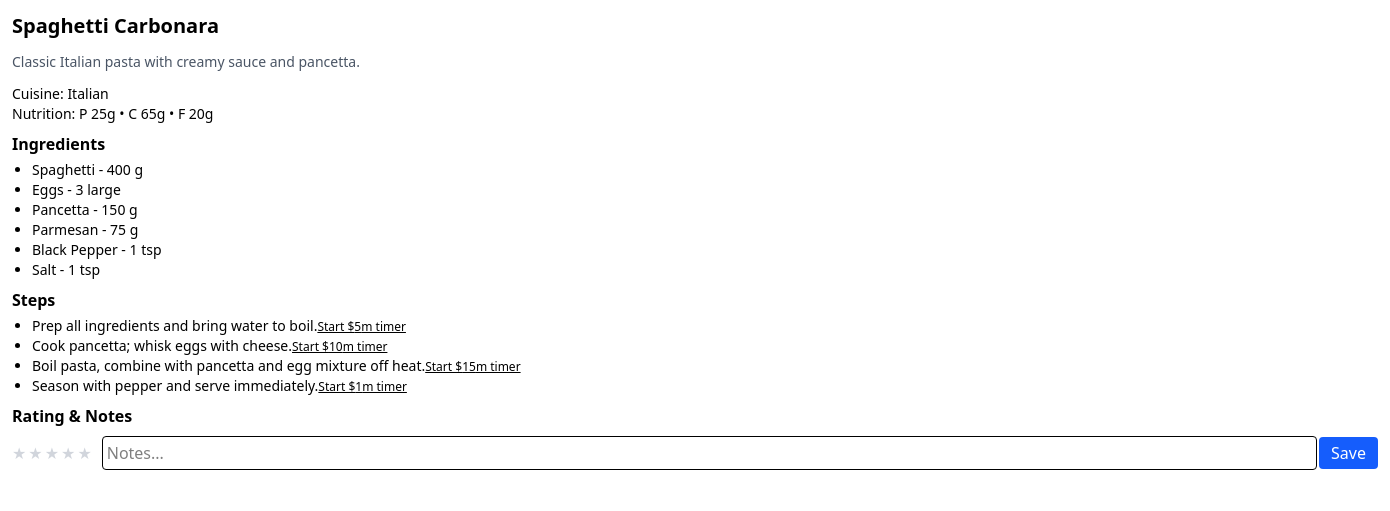
Detail › renders ingredients and steps, allows saving rating and note
expect the heading "Spaghetti Carbonara" is shown: met, box [12,12,219,39]
expect the list item "Eggs - 3 large" is shown: met, box [32,180,121,199]
Click the 5th text "★". click: (85, 453)
box: [77,441,92,465]
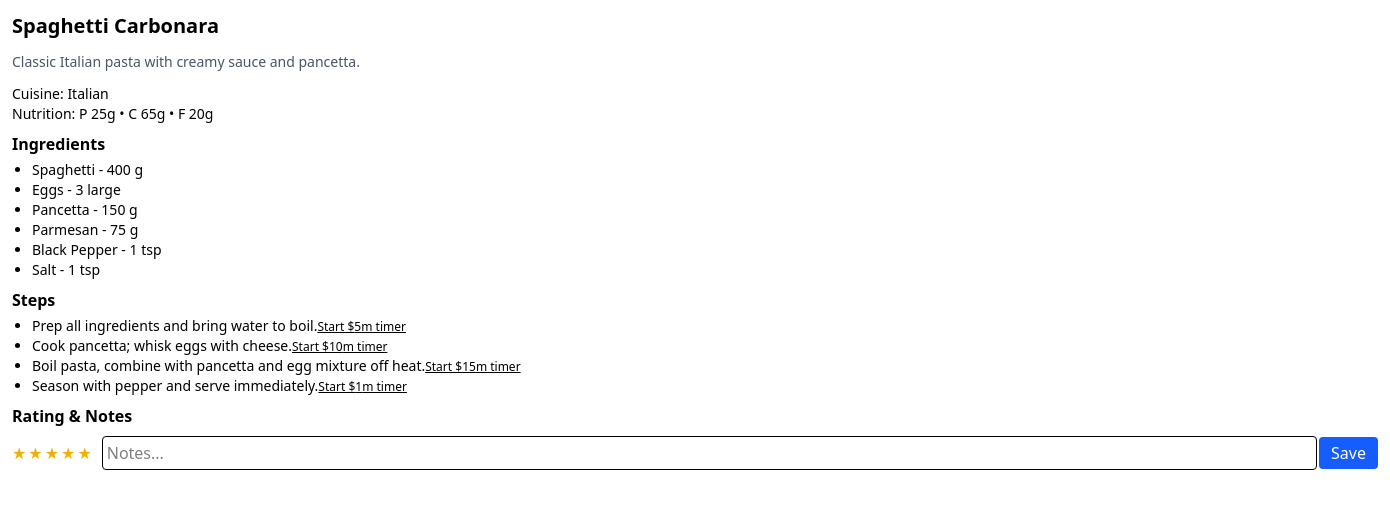
Type "Tasty!" into the field with placeholder "Notes...". click: (709, 453)
box: [102,436,1317,470]
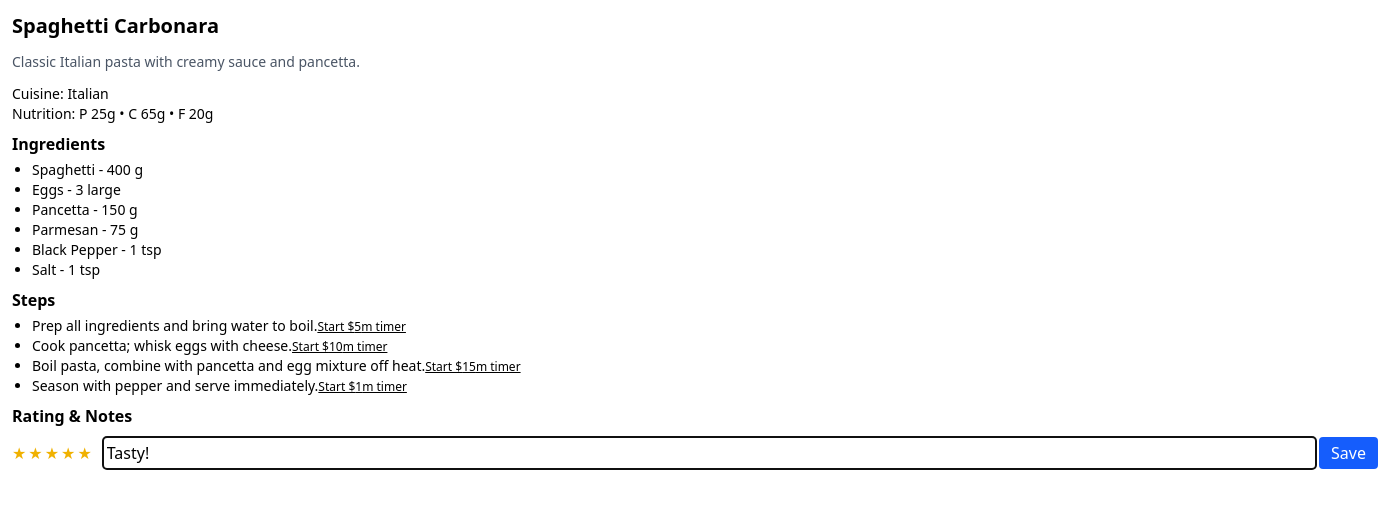
Click the button "Save". click: (1349, 453)
box: [1319,437,1378,469]
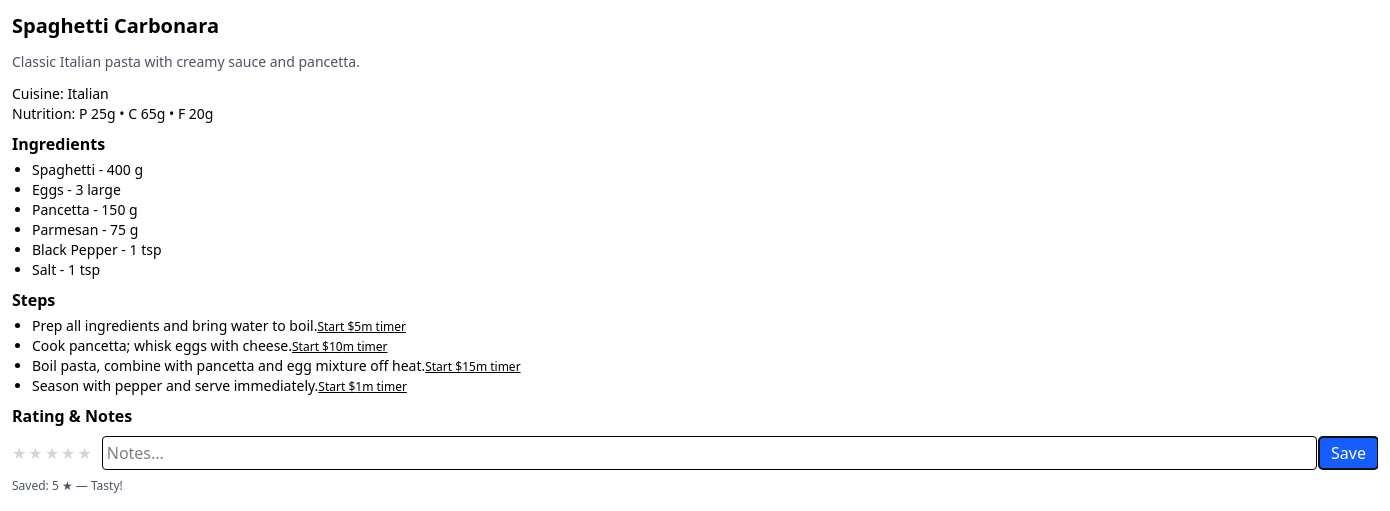
expect the text "Saved: 5 ★ — Tasty!" is shown: met, box [12,477,123,494]
